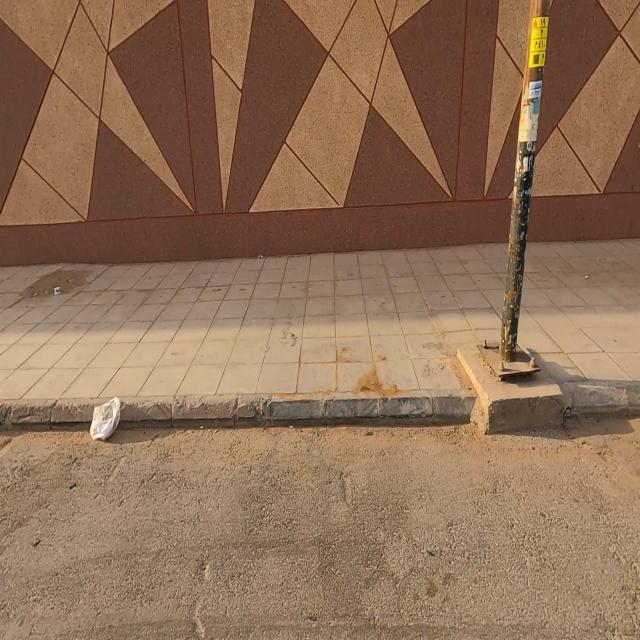debris: (30, 372, 163, 478), (38, 263, 72, 321)
